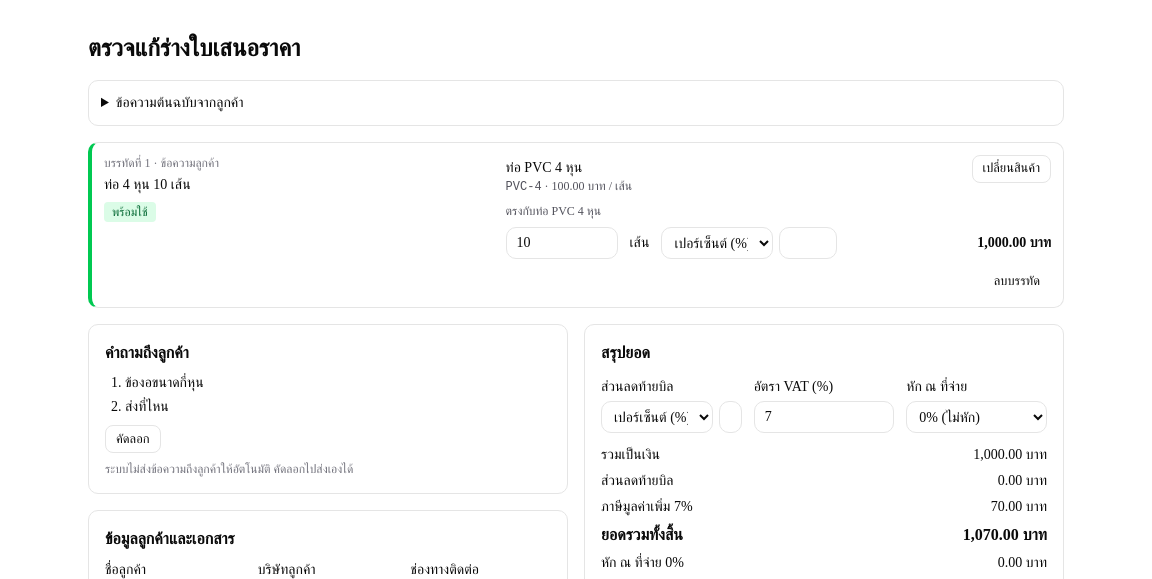
Scenario: searching the catalog › lets a resolved line switch product through a search
The image size is (1152, 579).
Click the button "เปลี่ยนสินค้า": (1011, 169) [972,155,1051,183]
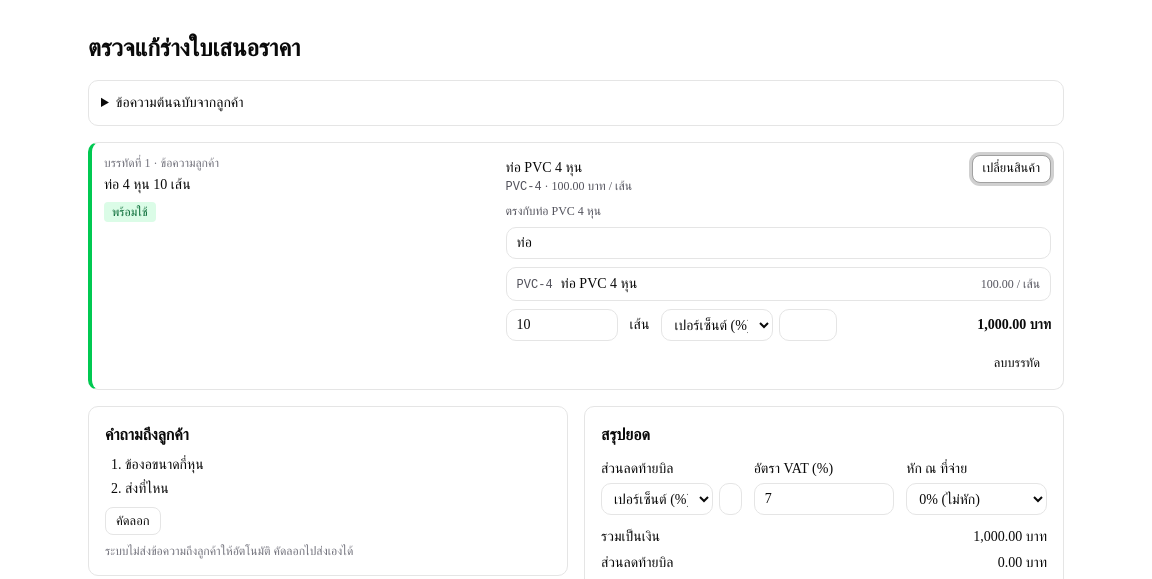
Replace the text in the field named "ค้นหาสินค้า บรรทัดที่ 1" with "เทปพัน": (778, 243) [506,227,1051,259]
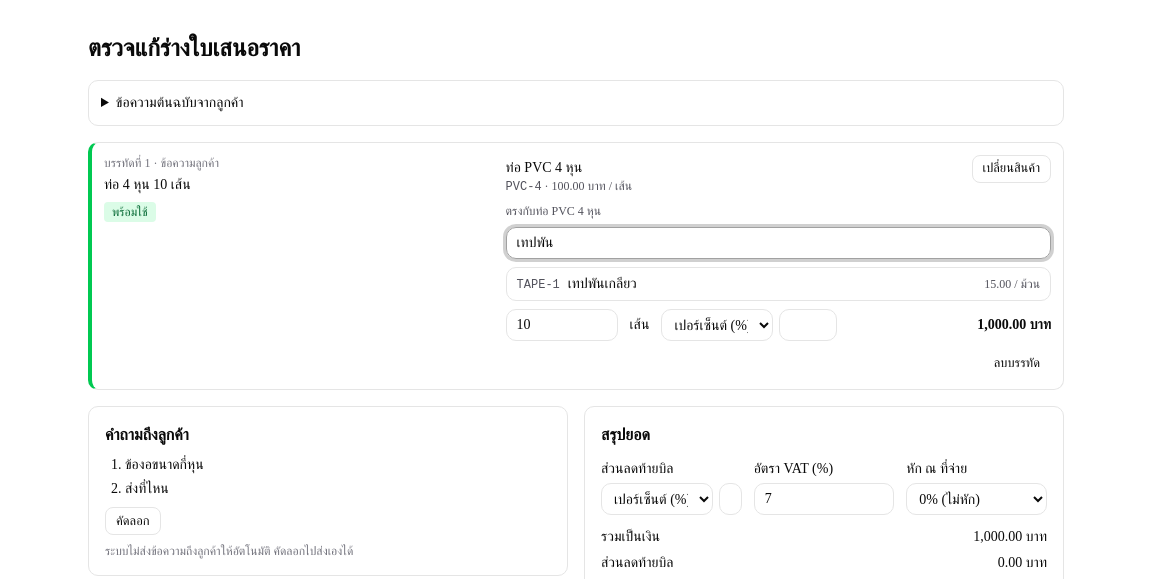
Click the button "TAPE-1 เทปพันเกลียว 15.00 / ม้วน": (538, 285) [507,268,1050,300]
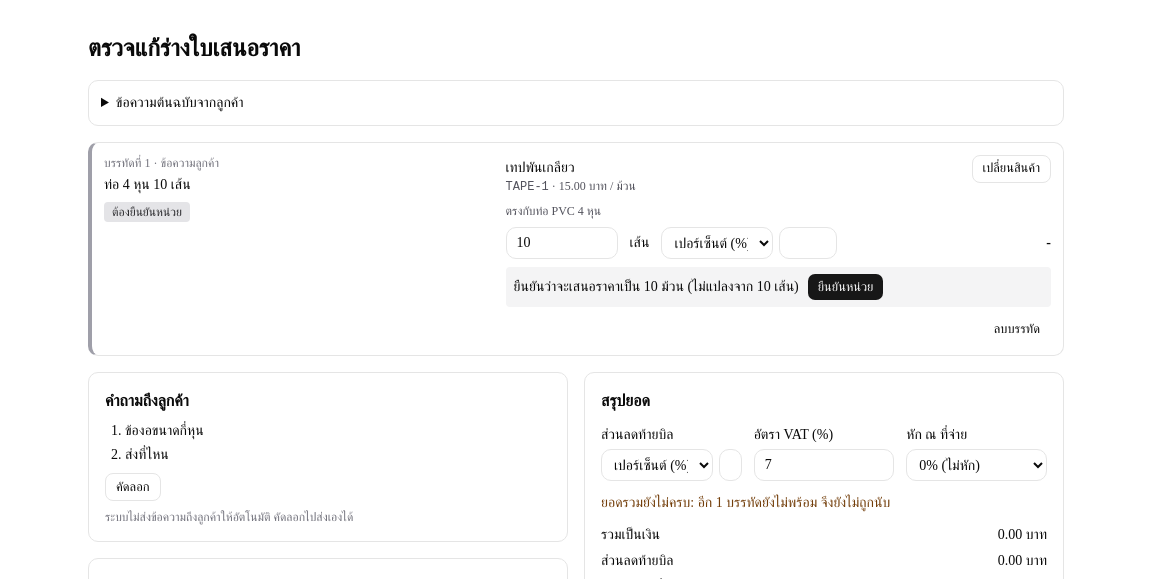
Check: the text "TAPE-1" is shown, box [506,180,549,194]
